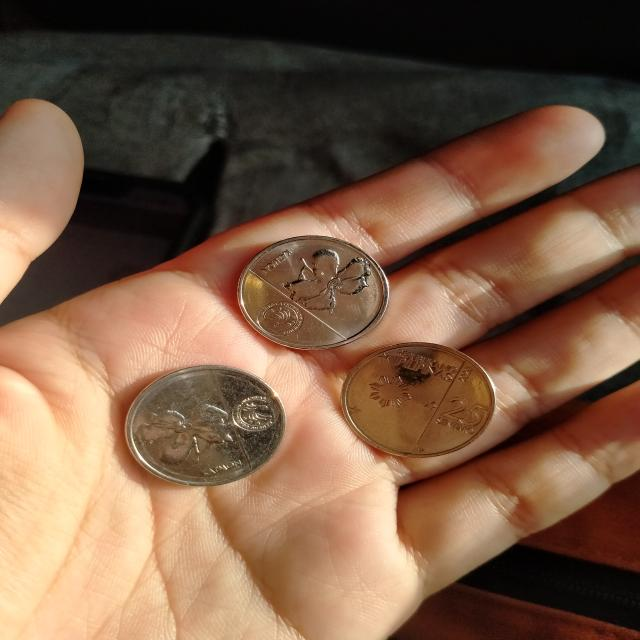25Cent_New_Back: (127, 395, 243, 471), (285, 242, 384, 316)
25Cent_New_Front: (430, 391, 492, 438)
